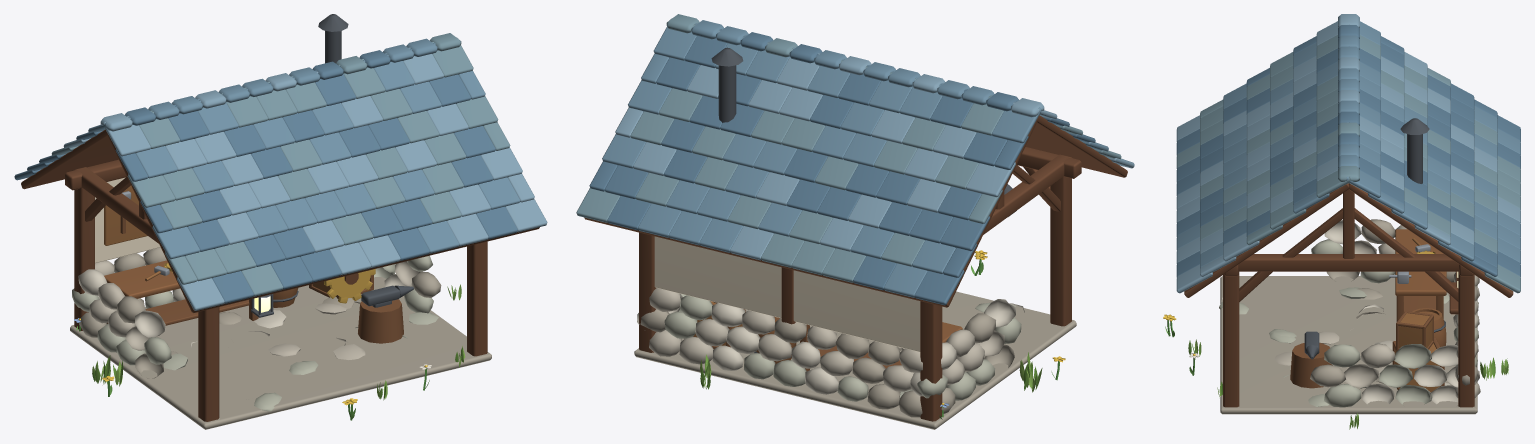
Rendered from workshop_hut.glb.
3 renders of one model, left to right at view 1: azimuth 30°, elevation 25°; view 2: azimuth 150°, elevation 25°; view 3: azimuth 270°, elevation 25°, orthographic. The views are drawn at different scales.
Parts seen in each view (by area): view 1: Hut; view 2: Hut; view 3: Hut.
Boxes of the visible parts, x1,y1,x2,y2 form: Hut: [14, 14, 547, 429]; Hut: [576, 14, 1134, 429]; Hut: [1163, 14, 1520, 429].
Bounding box in the file's own units: 5.51 × 4.04 × 4.87.
